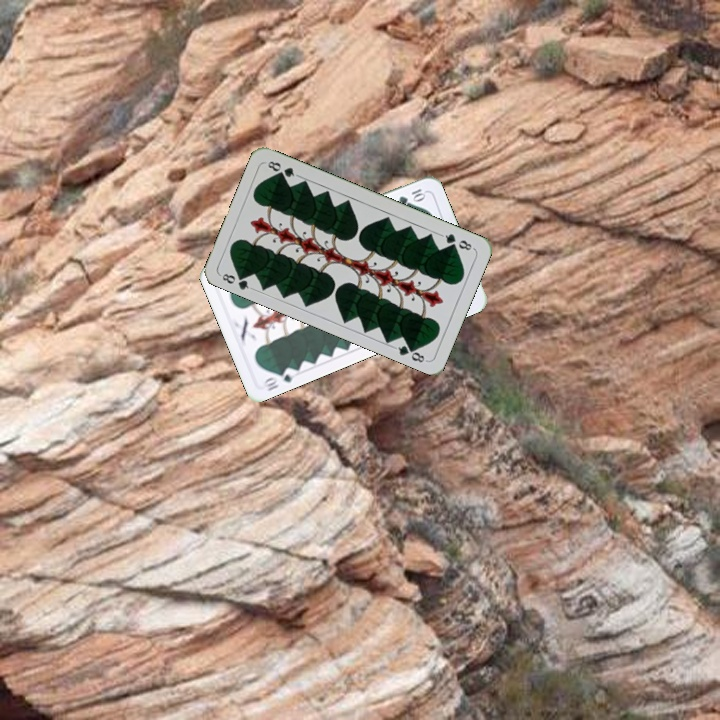G10: (259, 363, 299, 393), (394, 184, 428, 208)
G8: (437, 229, 476, 253), (218, 269, 255, 292)
